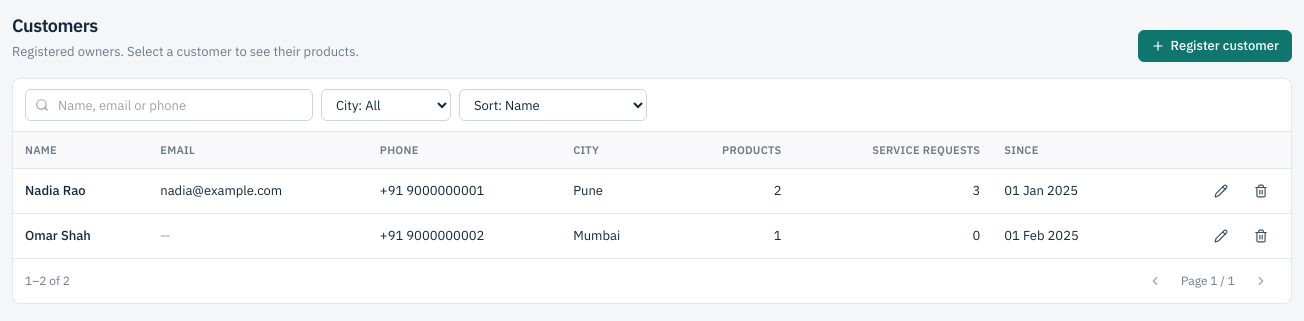
Test: Customers › loads rows and filters through the API
Check: the text "Nadia Rao" is shown, box [25, 182, 86, 199]
Check: the text "Omar Shah" is shown, box [25, 227, 91, 244]
In the field labelled "Name, email or phone": (169, 105) [25, 89, 313, 121], type "omar"
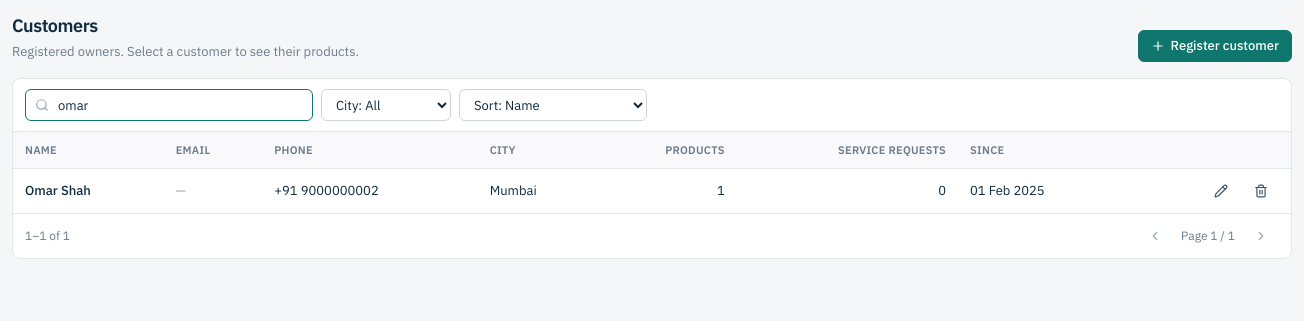
Check: the text "Omar Shah" is shown, box [25, 182, 91, 199]
Check: the text "Nadia Rao" is gone
